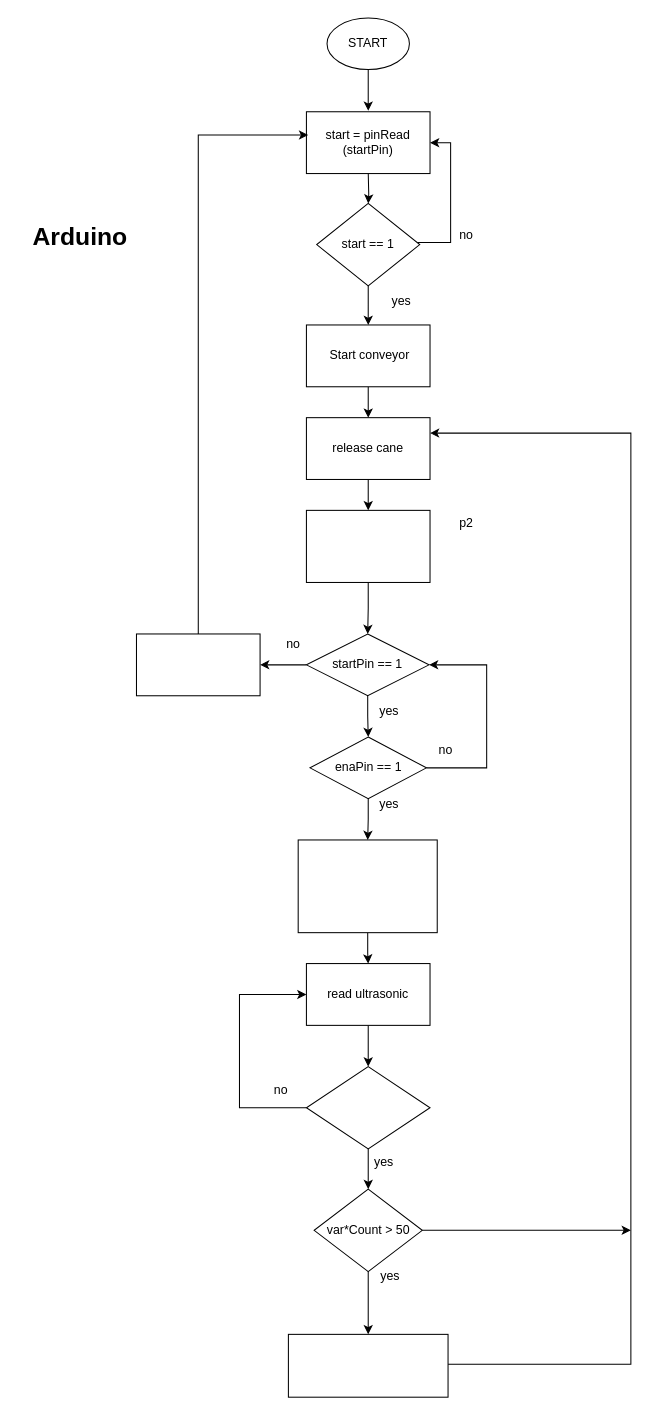
This 657x1415 diagram has some shape labels left out. Each missing label, with the box of its shape:
empty current var container: (287, 1333, 448, 1397)
read enaPin, startPin: (305, 509, 430, 582)
read varPins rotate sorter var*Count ++: (297, 839, 437, 933)
stop conveyor: (135, 633, 260, 696)
ultrasonic<10: (305, 1066, 430, 1149)
